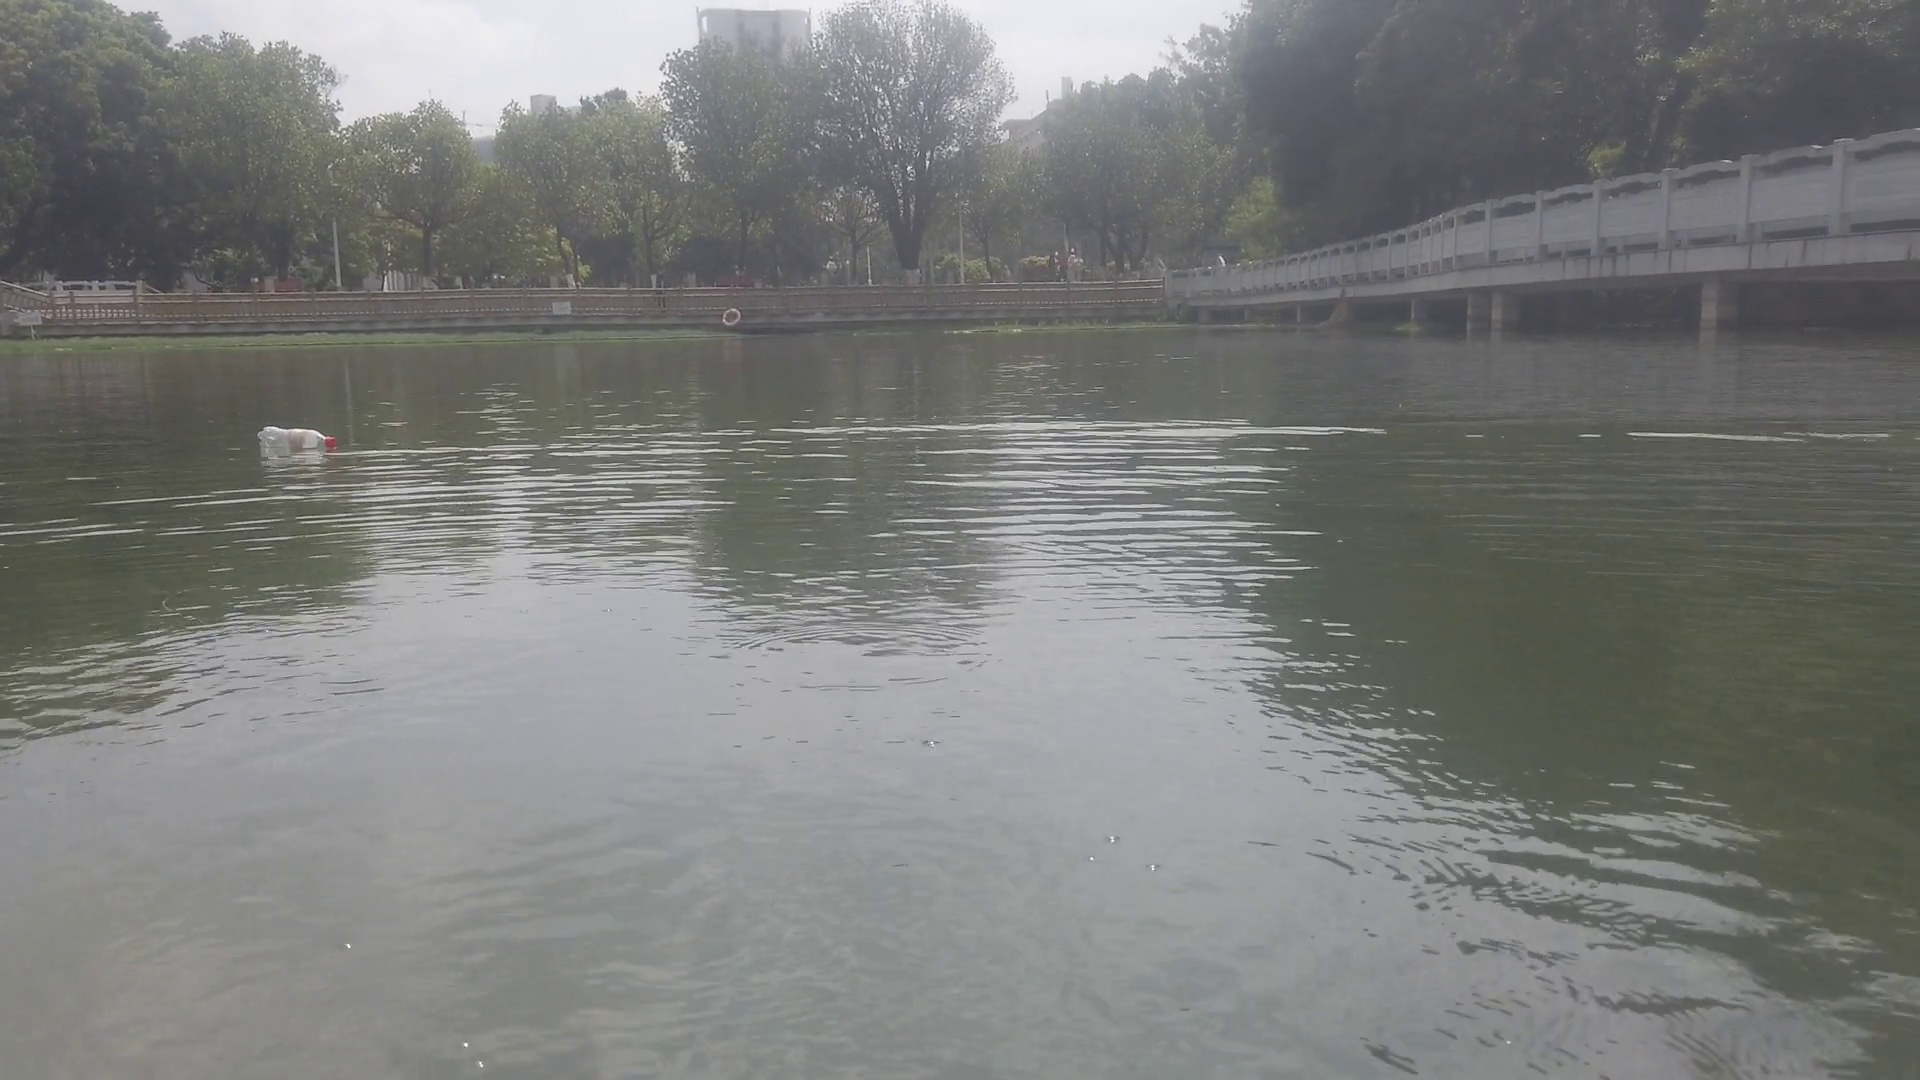bottle: (258, 423, 338, 460)
